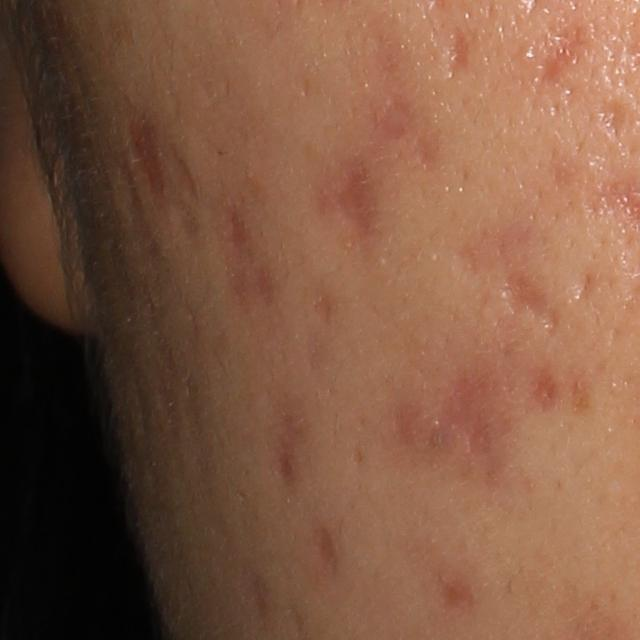atrophic_scar: (450, 218, 562, 341), (381, 80, 441, 176), (321, 160, 381, 238), (525, 13, 589, 82), (442, 377, 491, 462), (212, 207, 253, 277), (128, 357, 151, 479), (131, 104, 157, 208), (172, 120, 198, 211), (594, 99, 630, 144), (441, 27, 469, 81), (314, 524, 338, 568), (567, 271, 594, 302)
